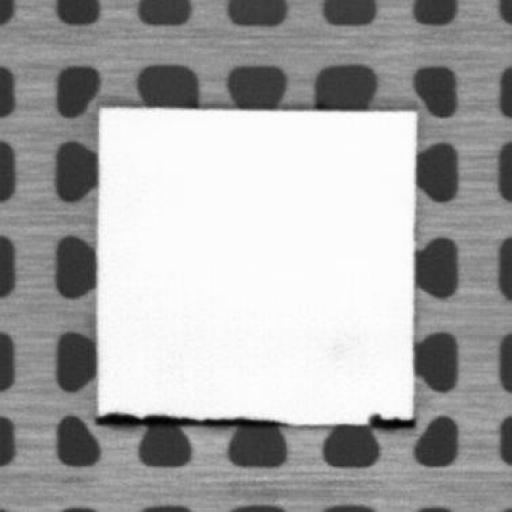DIE_BROKEN: (94, 411, 292, 428), (366, 410, 413, 428)
